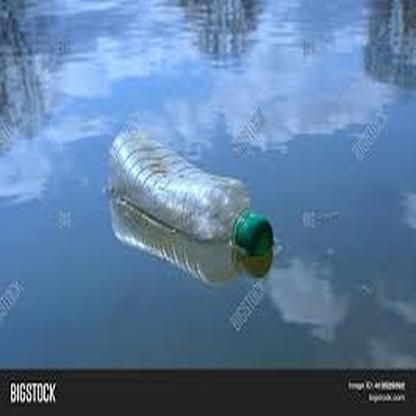plastic bottle: (109, 129, 274, 257)
